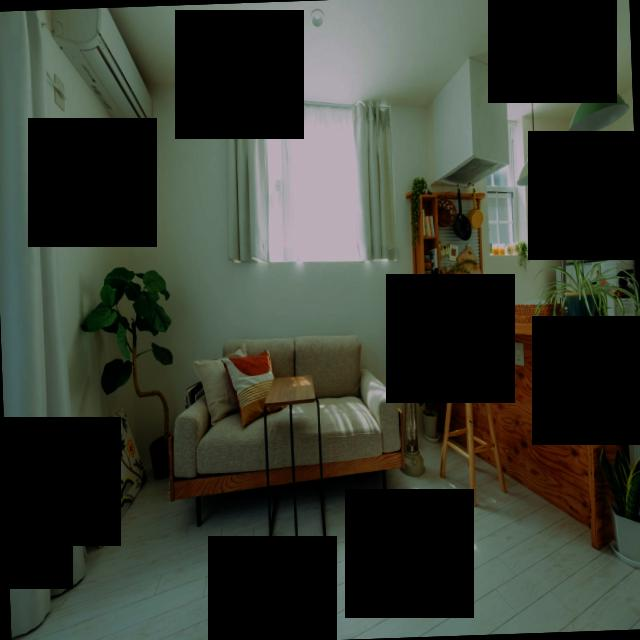white sofa: (172, 328, 409, 526)
